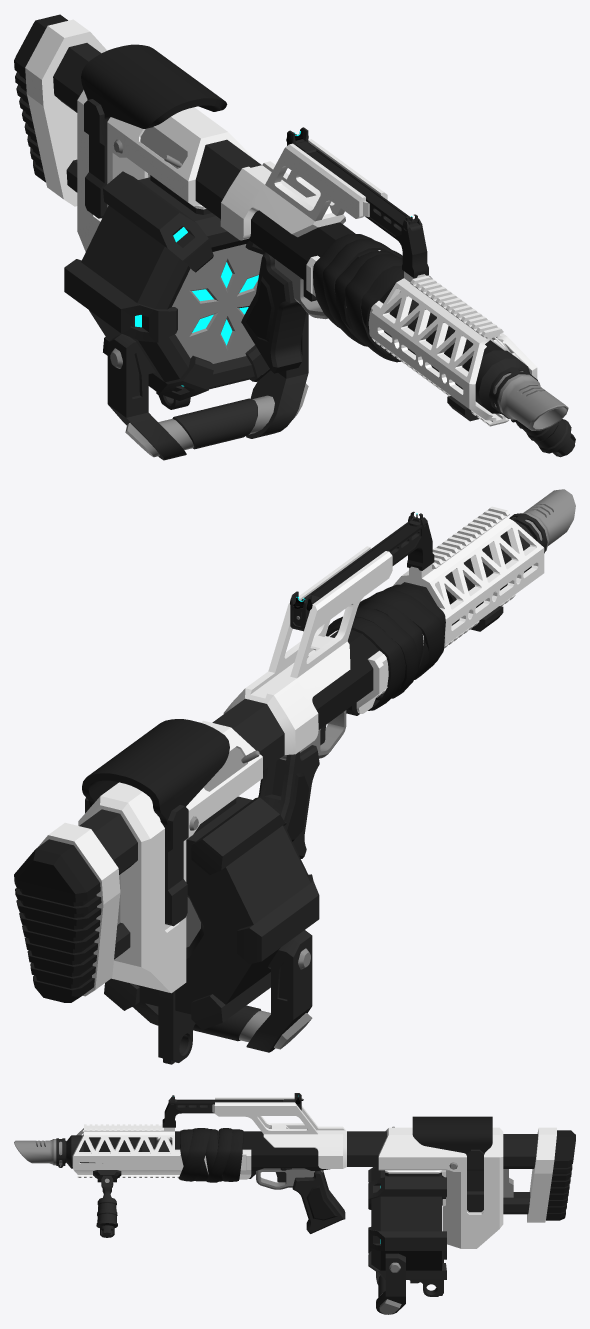
The model's file is LightMachineGun.fbx.
The picture shows the model from 3 angles, top to bottom: view 1: azimuth 30°, elevation 25°; view 2: azimuth 150°, elevation 25°; view 3: azimuth 270°, elevation 25°; orthographic projection. The views are drawn at different scales.
Visible parts, largest first — view 1: Magazine, Stock Back, HandGuard, Cheek Rest, Stock Front, Wrappings, Grip, Carry Handle Back, Body, Muzzle, Carry Handle Front, Lower Handle (+4 smaller); view 2: Magazine, Stock Back, Shoulder Padding, Cheek Rest, HandGuard, Stock Front, Wrappings, Carry Handle Back, Grip, Body, Carry Handle Front, Muzzle (+3 smaller); view 3: Stock Back, Magazine, HandGuard, Cheek Rest, Stock Front, Wrappings, Carry Handle Back, Body, Grip, Shoulder Padding, Muzzle, Carry Handle Front (+4 smaller).
Part boxes in pixels (<box>): Magazine: <box>64,171,308,460</box>; Stock Back: <box>25,19,257,251</box>; HandGuard: <box>306,250,537,426</box>; Cheek Rest: <box>81,44,227,218</box>; Stock Front: <box>195,139,345,240</box>; Wrappings: <box>313,234,432,362</box>; Grip: <box>241,252,306,373</box>; Carry Handle Back: <box>265,139,387,221</box>; Body: <box>248,210,400,337</box>; Muzzle: <box>489,367,568,430</box>; Carry Handle Front: <box>297,142,428,278</box>; Lower Handle: <box>407,312,529,413</box>; Magazine: <box>104,796,319,1064</box>; Stock Back: <box>38,720,262,996</box>; Shoulder Padding: <box>14,839,101,1002</box>; Cheek Rest: <box>82,719,229,926</box>; HandGuard: <box>328,506,544,713</box>; Stock Front: <box>212,635,350,770</box>; Wrappings: <box>326,584,445,710</box>; Carry Handle Back: <box>268,546,392,678</box>; Grip: <box>258,745,319,858</box>; Body: <box>312,582,436,729</box>; Carry Handle Front: <box>301,522,434,617</box>; Muzzle: <box>509,489,575,553</box>; Stock Back: <box>378,1127,556,1248</box>; Magazine: <box>368,1167,446,1314</box>; HandGuard: <box>72,1124,251,1179</box>; Cheek Rest: <box>412,1116,492,1211</box>; Stock Front: <box>263,1125,386,1168</box>; Wrappings: <box>178,1128,243,1182</box>; Carry Handle Back: <box>212,1097,318,1134</box>; Body: <box>175,1131,329,1178</box>; Grip: <box>292,1170,345,1233</box>; Shoulder Padding: <box>546,1130,575,1220</box>; Muzzle: <box>14,1138,66,1167</box>; Carry Handle Front: <box>162,1099,299,1127</box>.
Bounding box in the file's own units: 837 × 1514 × 3756.
Materials: 1 (1 with a texture image).
